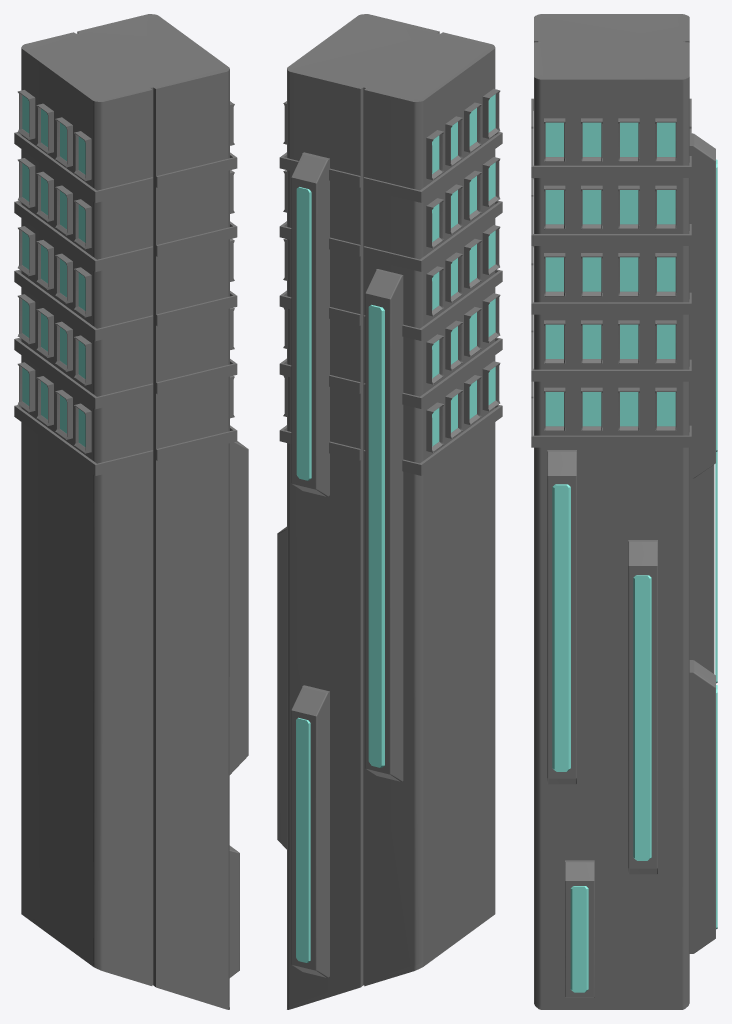
File: Building_UV_0017.obj
3 views of the same model, side by side, from view 1: azimuth 30°, elevation 25°; view 2: azimuth 150°, elevation 25°; view 3: azimuth 270°, elevation 25° (orthographic).
Visible parts, largest first — view 1: Building_UV_00017; view 2: Building_UV_00017; view 3: Building_UV_00017.
Part boxes in pixels (x1,y1,x2,y2): Building_UV_00017: (14, 14, 248, 1009); Building_UV_00017: (277, 14, 502, 1009); Building_UV_00017: (531, 14, 717, 1009).
Bounding box in the file's own units: 775 × 4146 × 752.
